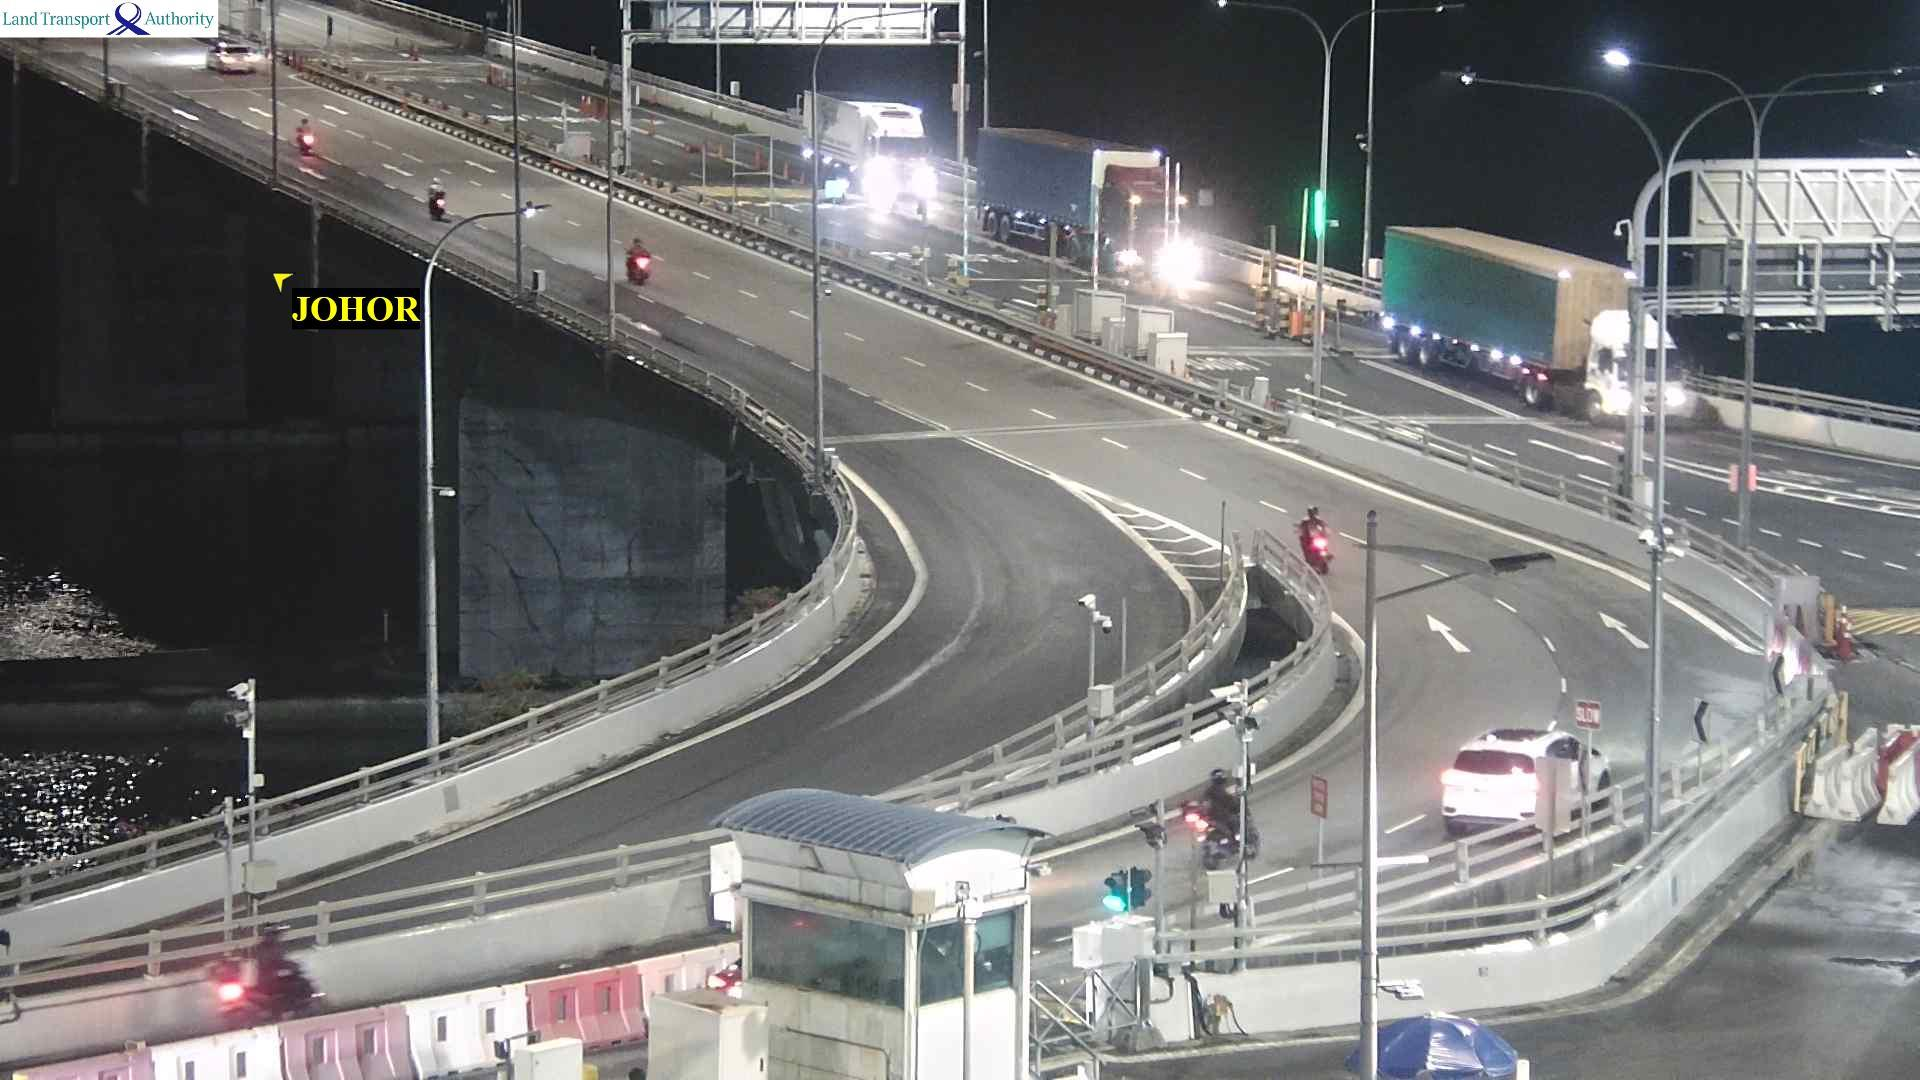vehicle-secondlink-johor: (1436, 728, 1618, 834), (211, 921, 328, 1019), (1192, 769, 1260, 852), (1296, 502, 1332, 572), (209, 40, 263, 74), (626, 238, 650, 284), (425, 177, 448, 219), (293, 118, 315, 154)
vehicle-secondlink-singapore: (1384, 226, 1686, 430), (979, 127, 1181, 286), (804, 91, 936, 211)
